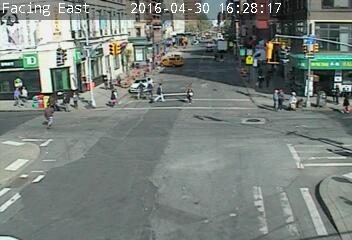neg: (210, 95, 266, 170), (299, 14, 350, 81), (5, 2, 40, 49), (310, 166, 343, 210), (153, 144, 184, 184), (76, 2, 95, 27), (11, 157, 29, 181), (205, 18, 222, 41)
